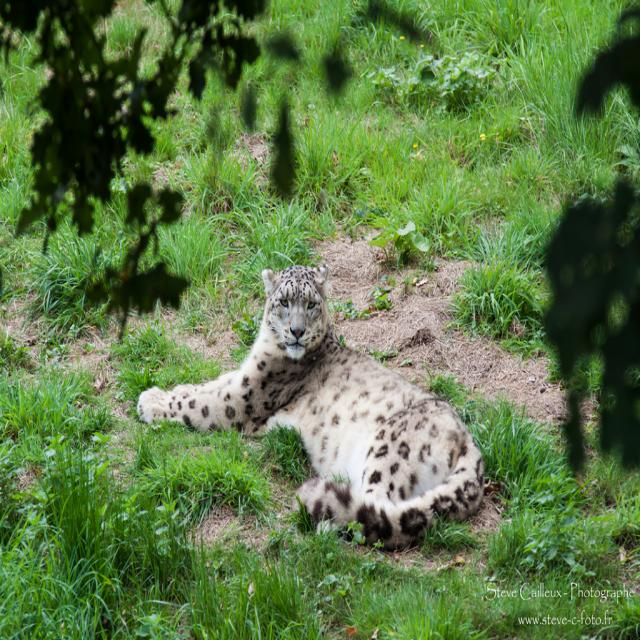Cheetah: (136, 266, 486, 551)
